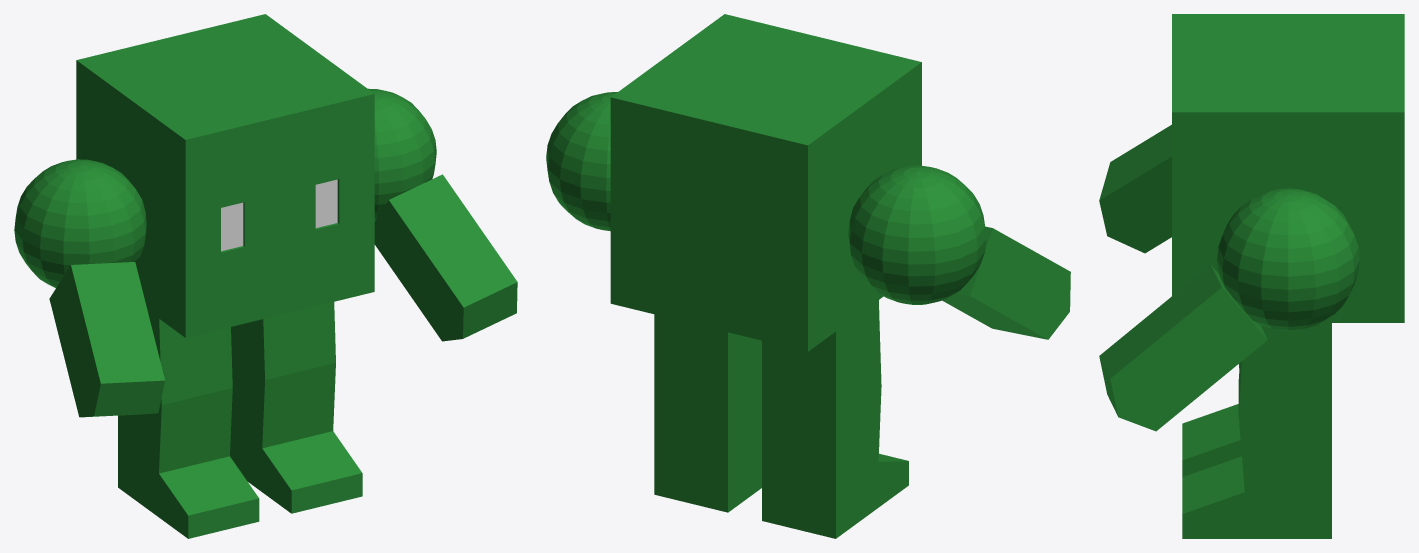
File: Davy2.fbx
3 renders of one model, left to right at view 1: azimuth 30°, elevation 25°; view 2: azimuth 150°, elevation 25°; view 3: azimuth 270°, elevation 25°, orthographic. The views are drawn at different scales.
Visible parts, largest first — view 1: Cube; view 2: Cube; view 3: Cube.
Boxes of the visible parts, box(x1,y1,x2,y2) form: Cube: box(14, 14, 517, 538); Cube: box(546, 14, 1070, 538); Cube: box(1099, 14, 1404, 538).
Bounding box in the file's own units: 447 × 408 × 263.
